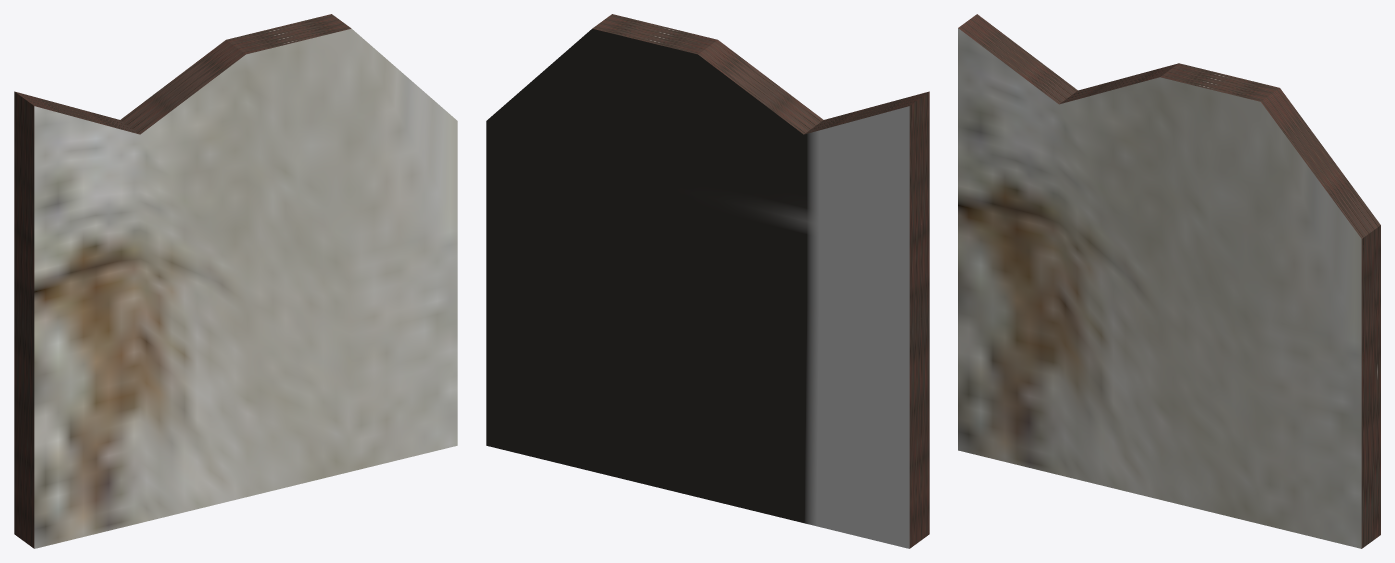
The model's file is Wall Mesh_4.fbx.
3 views of the same model, side by side, from view 1: azimuth 30°, elevation 25°; view 2: azimuth 150°, elevation 25°; view 3: azimuth 330°, elevation 25° (orthographic). The views are drawn at different scales.
Visible parts, largest first — view 1: Wall_mesh 1.001; view 2: Wall_mesh 1.001; view 3: Wall_mesh 1.001.
Boxes of the visible parts, box(x1,y1,x2,y2) form: Wall_mesh 1.001: box(14, 14, 457, 548); Wall_mesh 1.001: box(486, 14, 929, 548); Wall_mesh 1.001: box(958, 14, 1380, 548).
Bounding box in the file's own units: 200 × 200 × 16.4.
